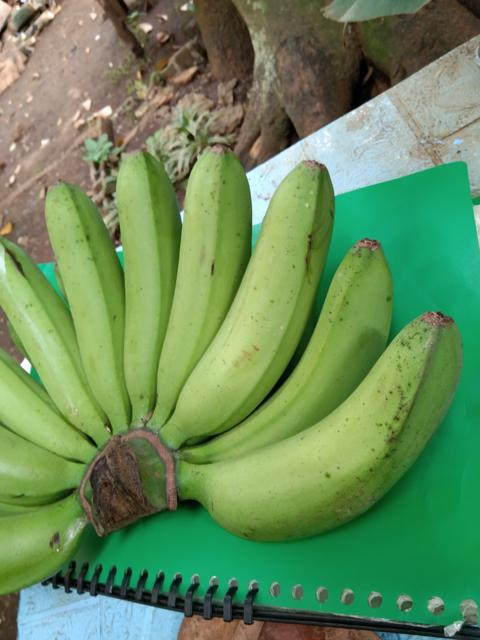freshunripe: (196, 301, 461, 575), (194, 232, 406, 475), (181, 151, 344, 437), (145, 135, 253, 427), (106, 140, 198, 411), (36, 170, 133, 423), (0, 480, 98, 617), (0, 418, 84, 503)
